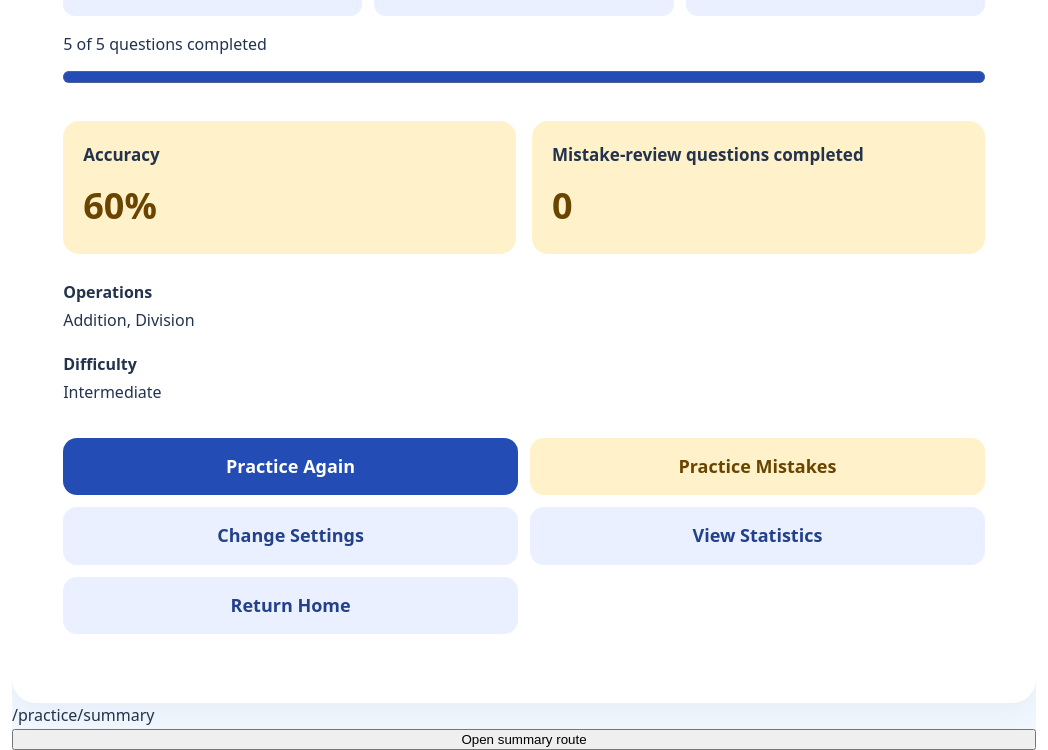
it: summary details and actions › View Statistics navigates to /statistics
(page scrolled)
Click the link "View Statistics" at [757, 536], box [530, 507, 985, 565]
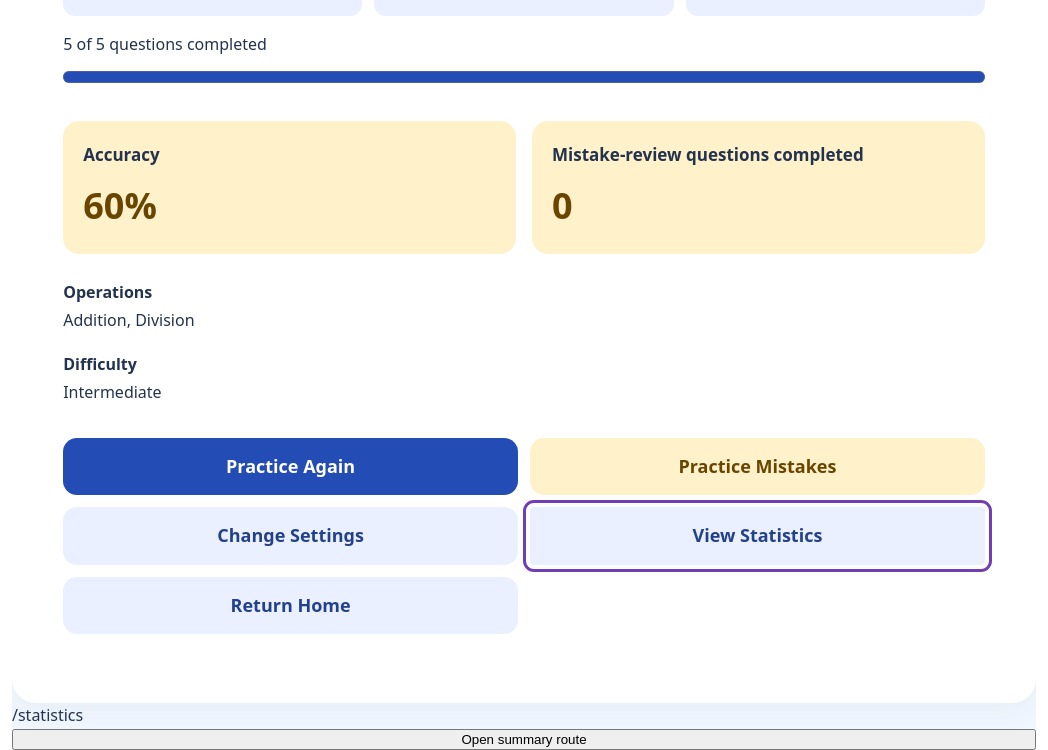
Check: the text named "Current route" reads "/statistics", box [12, 704, 83, 726]
